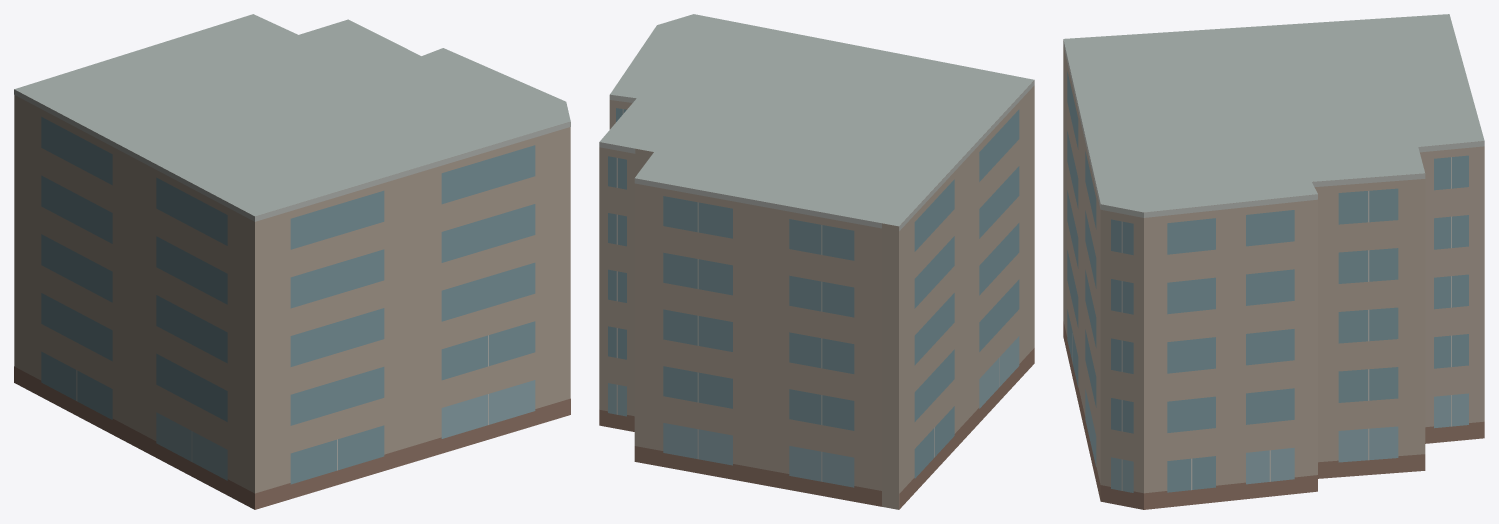
File: survey-upis-32772443.glb
The picture shows the model from 3 angles, left to right: view 1: azimuth 30°, elevation 25°; view 2: azimuth 150°, elevation 25°; view 3: azimuth 270°, elevation 25°; orthographic projection. The views are drawn at different scales.
Visible parts, largest first — view 1: survey-upis-32772443.tmp; view 2: survey-upis-32772443.tmp; view 3: survey-upis-32772443.tmp.
Part boxes in pixels (x1,y1,x2,y2): survey-upis-32772443.tmp: [14, 14, 570, 509]; survey-upis-32772443.tmp: [599, 14, 1034, 509]; survey-upis-32772443.tmp: [1063, 14, 1484, 509].
Bounding box in the file's own units: 18.9 × 13.2 × 16.96.
